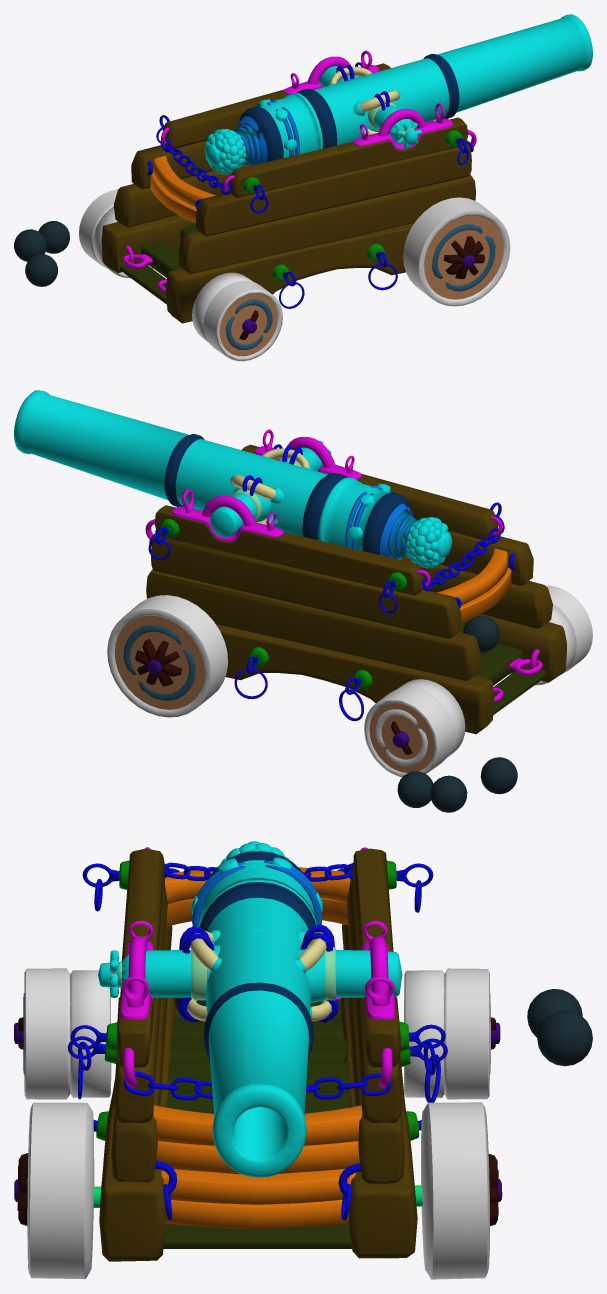
3 views of the same model, one above another, from view 1: azimuth 30°, elevation 25°; view 2: azimuth 150°, elevation 25°; view 3: azimuth 270°, elevation 25° (orthographic). The views are drawn at different scales.
Visible parts, largest first — view 1: cannon; view 2: cannon; view 3: cannon.
Part boxes in pixels (left/top/right/bottom): cannon: left=14, top=14, right=592, bottom=361; cannon: left=14, top=390, right=592, bottom=812; cannon: left=14, top=841, right=592, bottom=1279.
Bounding box in the file's own units: 404 × 154 × 243.
